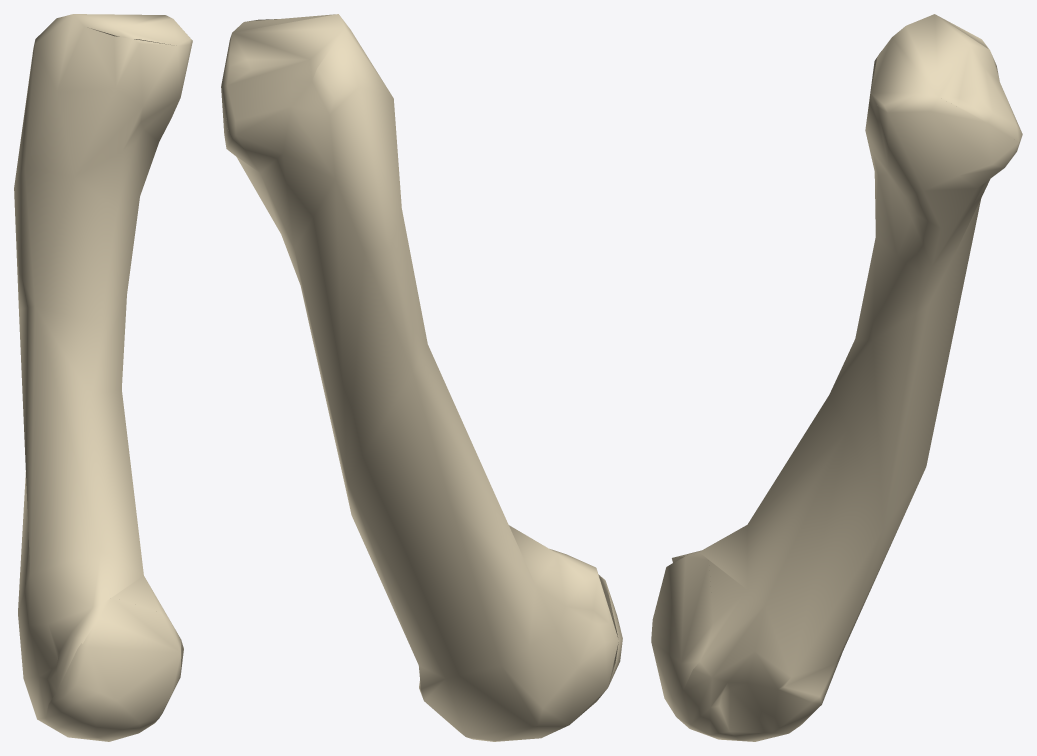
File: esqueleto-fifth-metacarpal-bone-l.glb
The picture shows the model from 3 angles, left to right: view 1: azimuth 30°, elevation 25°; view 2: azimuth 150°, elevation 25°; view 3: azimuth 270°, elevation 25°; orthographic projection. The views are drawn at different scales.
Parts seen in each view (by area): view 1: Fifth metacarpal bone.l; view 2: Fifth metacarpal bone.l; view 3: Fifth metacarpal bone.l.
Boxes of the visible parts, x1,y1,x2,y2 form: Fifth metacarpal bone.l: (14,14,192,741); Fifth metacarpal bone.l: (221,14,622,741); Fifth metacarpal bone.l: (651,14,1022,741).
Bounding box in the file's own units: 0.0209 × 0.057 × 0.0255.
